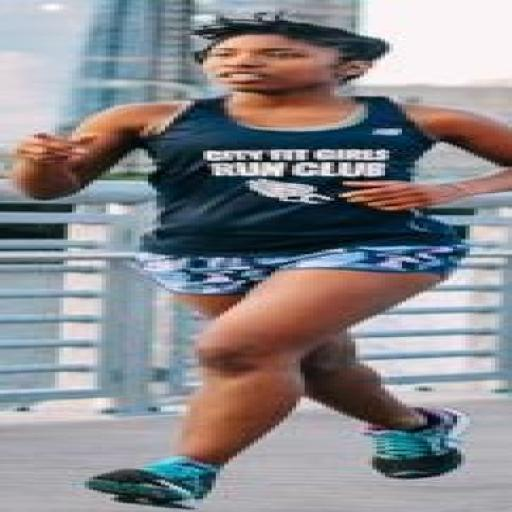person: (13, 15, 511, 508)
